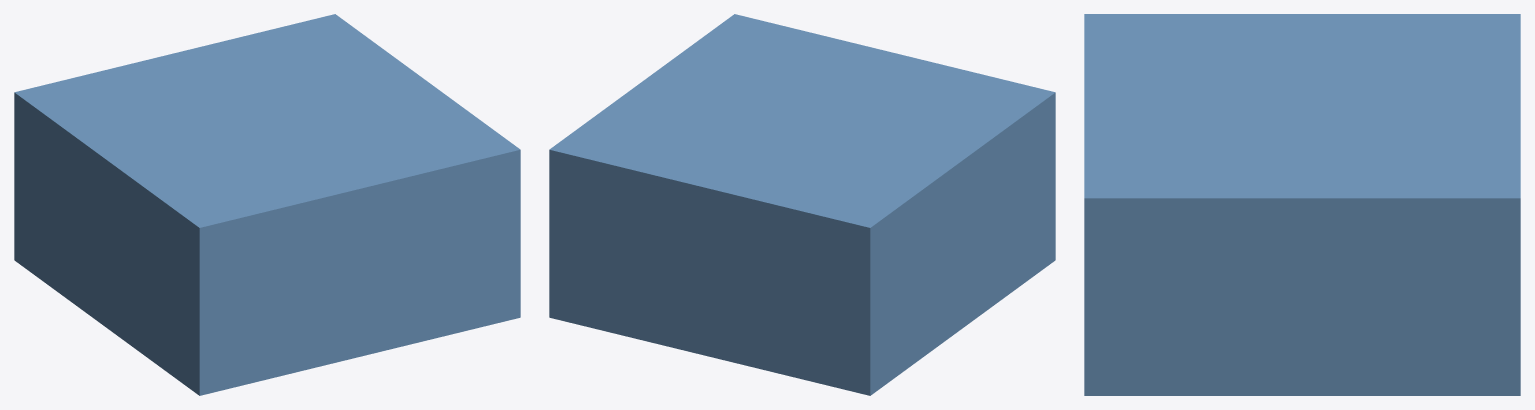
The model's file is Spawn_Half.glb.
3 renders of one model, left to right at view 1: azimuth 30°, elevation 25°; view 2: azimuth 150°, elevation 25°; view 3: azimuth 270°, elevation 25°, orthographic. The views are drawn at different scales.
Visible parts, largest first — view 1: Spawn_Half_body; view 2: Spawn_Half_body; view 3: Spawn_Half_body.
Boxes of the visible parts, x1,y1,x2,y2 form: Spawn_Half_body: (14, 14, 520, 395); Spawn_Half_body: (549, 14, 1055, 395); Spawn_Half_body: (1084, 14, 1520, 395).
Size of the model in its own units: 1 by 0.5 by 1.
